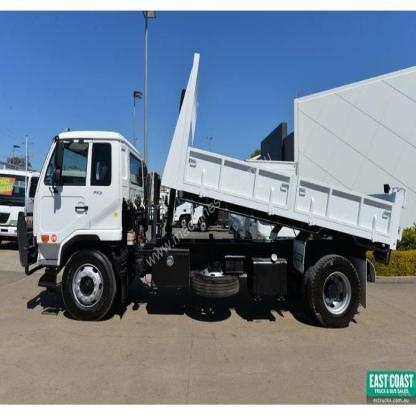dump_truck: (17, 48, 410, 335)
